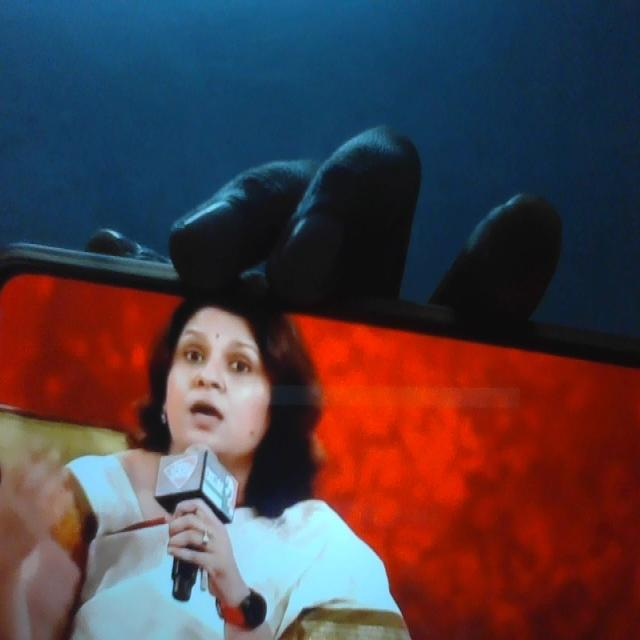fake: (167, 279, 273, 480)
